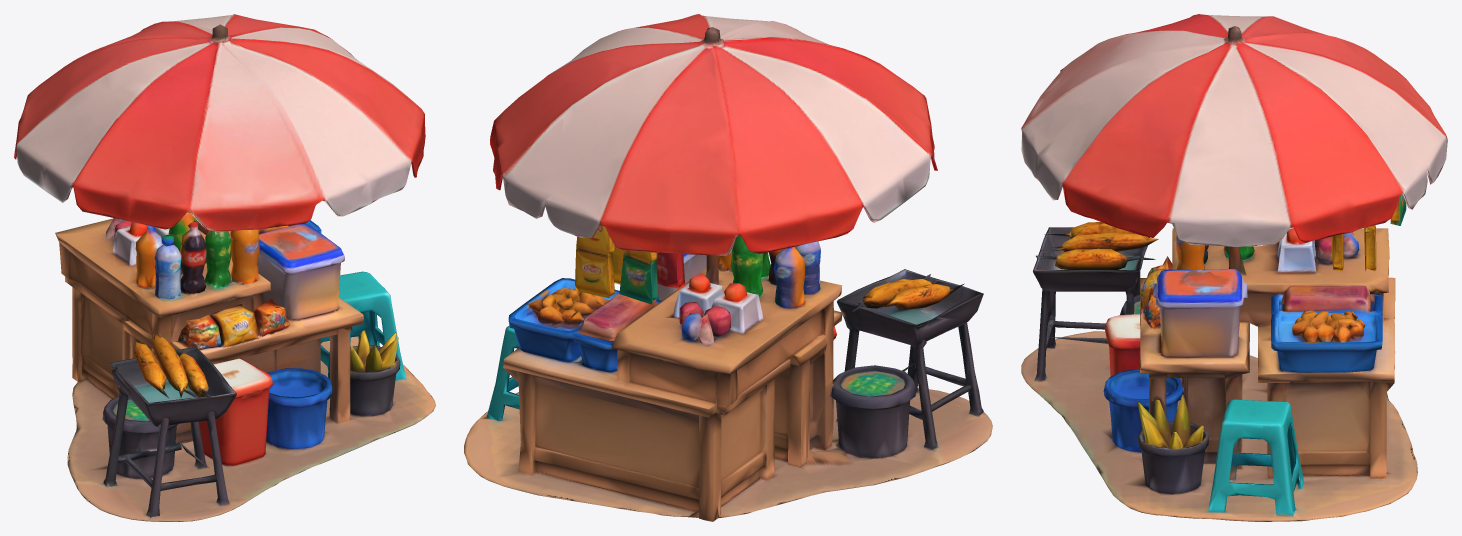
The model's file is road-side-shop.fbx.
The picture shows the model from 3 angles, left to right: view 1: azimuth 30°, elevation 25°; view 2: azimuth 150°, elevation 25°; view 3: azimuth 270°, elevation 25°; orthographic projection. The views are drawn at different scales.
Visible parts, largest first — view 1: tripo_node_fafd70c3; view 2: tripo_node_fafd70c3; view 3: tripo_node_fafd70c3.
Part boxes in pixels (box(x1,y1,x2,y2)): tripo_node_fafd70c3: box(14, 14, 435, 521); tripo_node_fafd70c3: box(464, 14, 992, 521); tripo_node_fafd70c3: box(1021, 14, 1447, 521).
Size of the model in its own units: 1 by 0.9893 by 0.9496.
